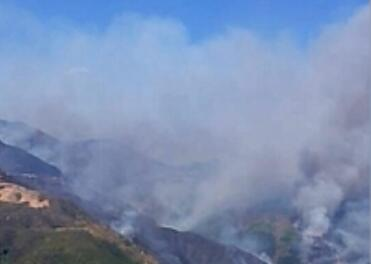yanwu: (25, 11, 371, 260)
